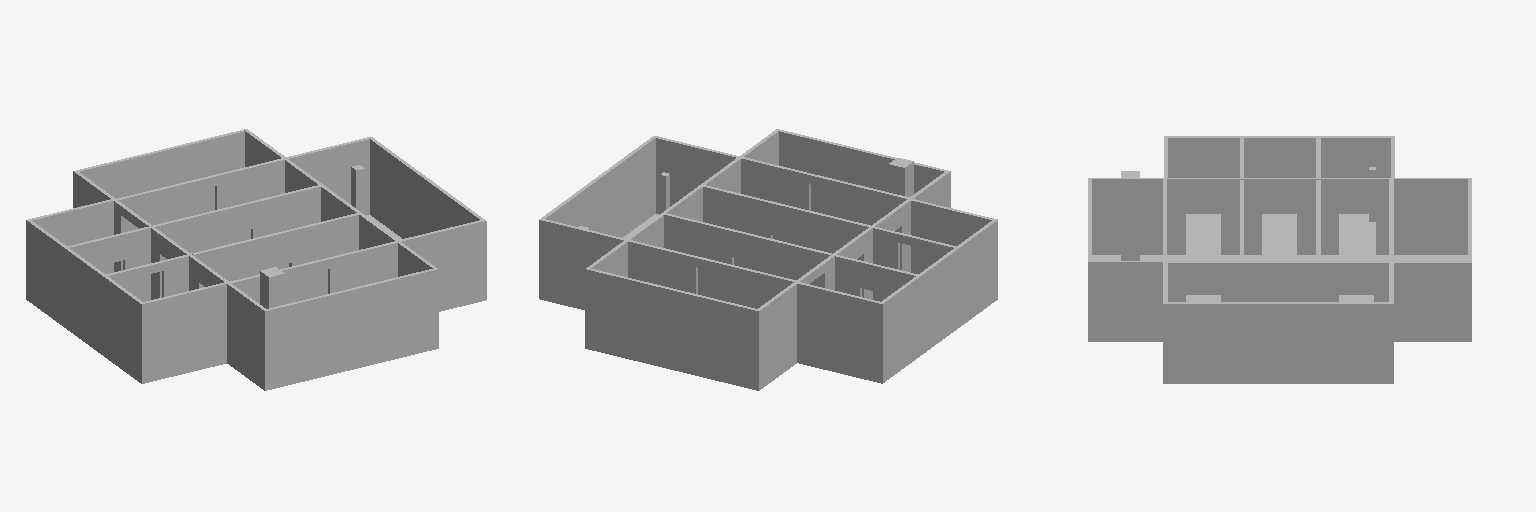
File: level1_col.obj
The picture shows the model from 3 angles: view 1: azimuth 30°, elevation 25°; view 2: azimuth 150°, elevation 25°; view 3: azimuth 270°, elevation 25°; orthographic projection.
Parts seen in each view (by area): view 1: Cube.079_Cube.075, Cube.074_Cube.078, Cube.080, Cube.078_Cube.074, Cube.076_Cube.079, Cube.081, Cube.085, Cube.097_Cube.123, Cube.082, Cube.090_Cube.117, Cube.077_Cube.035, Cube.112_Cube.121 (+16 smaller); view 2: Cube.078_Cube.074, Cube.074_Cube.078, Cube.077_Cube.035, Cube.076_Cube.079, Cube.079_Cube.075, Cube.082, Cube.110_Cube.116, Cube.112_Cube.121, Cube.081, Cube.080, Cube.097_Cube.123, Cube.089_Cube.119 (+15 smaller); view 3: Cube.076_Cube.079, Cube.074_Cube.078, Cube.083, Cube.084, Cube.110_Cube.116, Cube.072_Cube.077, Cube.085, Cube.108_Cube.114, Cube.107_Cube.113, Cube.073, Cube.101_Cube.106, Cube.186_Cube.213 (+12 smaller).
Boxes of the visible parts, <box> form: Cube.079_Cube.075: <box>267,269,434,389</box>; Cube.074_Cube.078: <box>28,221,141,382</box>; Cube.080: <box>140,281,229,383</box>; Cube.078_Cube.074: <box>77,130,244,216</box>; Cube.076_Cube.079: <box>370,138,482,238</box>; Cube.081: <box>396,219,486,311</box>; Cube.085: <box>227,283,268,390</box>; Cube.097_Cube.123: <box>289,213,358,300</box>; Cube.082: <box>283,137,372,215</box>; Cube.090_Cube.117: <box>215,158,284,245</box>; Cube.077_Cube.035: <box>26,199,113,300</box>; Cube.112_Cube.121: <box>251,185,320,269</box>; Cube.078_Cube.074: <box>589,269,756,389</box>; Cube.074_Cube.078: <box>882,220,995,381</box>; Cube.077_Cube.035: <box>797,282,884,383</box>; Cube.076_Cube.079: <box>542,137,655,237</box>; Cube.079_Cube.075: <box>779,130,946,217</box>; Cube.082: <box>539,218,628,309</box>; Cube.110_Cube.116: <box>755,282,796,390</box>; Cube.112_Cube.121: <box>664,213,733,301</box>; Cube.081: <box>653,136,742,214</box>; Cube.080: <box>907,198,997,300</box>; Cube.097_Cube.123: <box>703,185,772,271</box>; Cube.089_Cube.119: <box>741,157,810,245</box>; Cube.076_Cube.079: <box>1168,302,1388,383</box>; Cube.074_Cube.078: <box>1168,136,1390,213</box>; Cube.083: <box>1394,261,1471,341</box>; Cube.084: <box>1088,261,1162,341</box>; Cube.110_Cube.116: <box>1394,178,1471,254</box>; Cube.072_Cube.077: <box>1186,214,1375,254</box>; Cube.085: <box>1088,178,1163,254</box>; Cube.108_Cube.114: <box>1297,178,1338,254</box>; Cube.107_Cube.113: <box>1221,178,1261,254</box>; Cube.073: <box>1092,255,1467,301</box>; Cube.101_Cube.106: <box>1297,261,1338,301</box>; Cube.186_Cube.213: <box>1121,171,1139,260</box>.
Size of the model in its own units: 31.91 by 9.36 by 30.77.